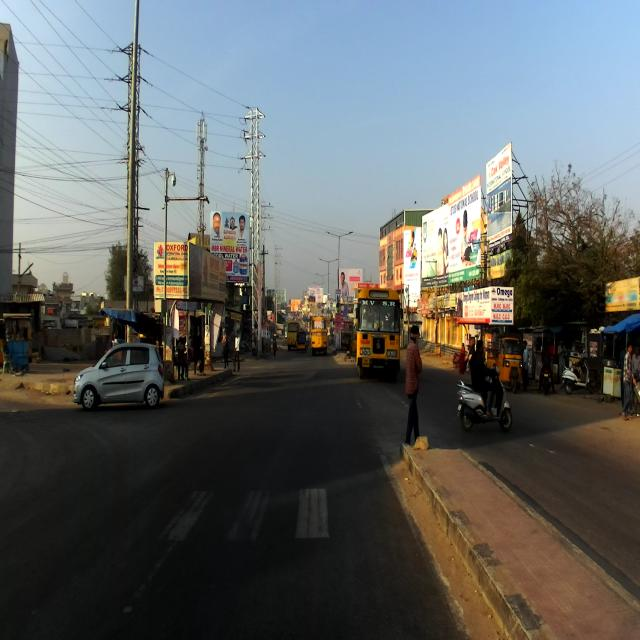bus ahead at: (354, 283, 403, 372)
car ahead at: (74, 336, 164, 423)
person ahead at: (400, 321, 423, 445)
